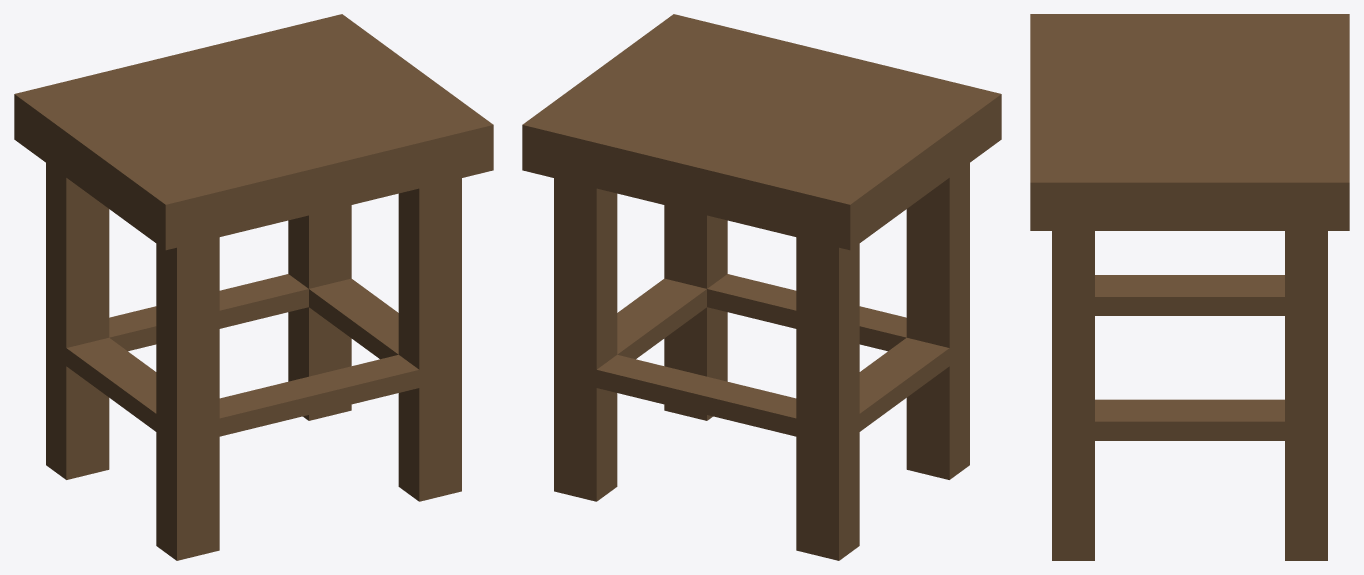
Rendered from stool.glb.
3 views of the same model, side by side, from view 1: azimuth 30°, elevation 25°; view 2: azimuth 150°, elevation 25°; view 3: azimuth 270°, elevation 25° (orthographic). The views are drawn at different scales.
Visible parts, largest first — view 1: WoodenCampStool; view 2: WoodenCampStool; view 3: WoodenCampStool.
Part boxes in pixels (left/top/right/bottom): WoodenCampStool: left=14, top=14, right=493, bottom=560; WoodenCampStool: left=522, top=14, right=1001, bottom=560; WoodenCampStool: left=1030, top=14, right=1349, bottom=560.
Size of the model in its own units: 0.4 by 0.43 by 0.32.
